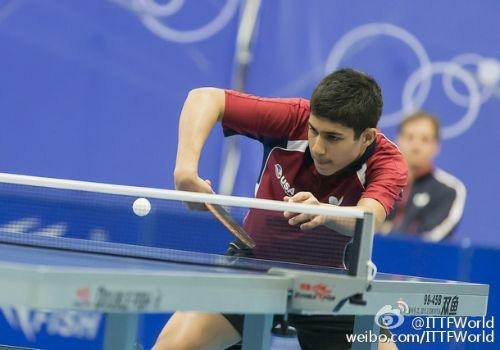ball: (127, 195, 154, 219)
